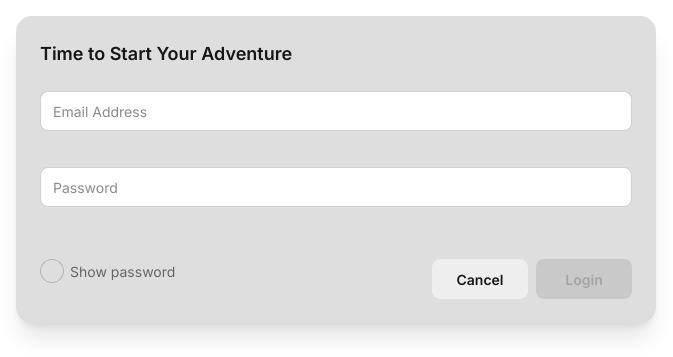
Scenario: Login Page › Email Input › required error › is displayed after tabbing out of the input
Click the field labelled "Email Address" at (336, 111), box [40,91,632,131]
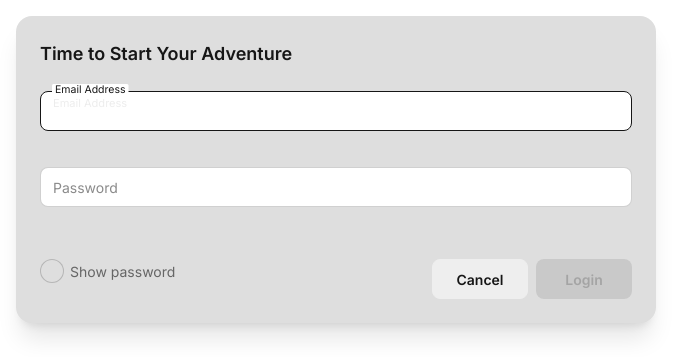
Press Tab
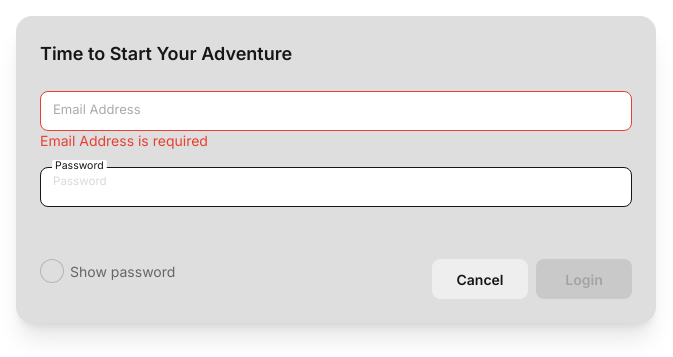
Expected: the text "Email Address is required" is shown, [40,132,208,149]
